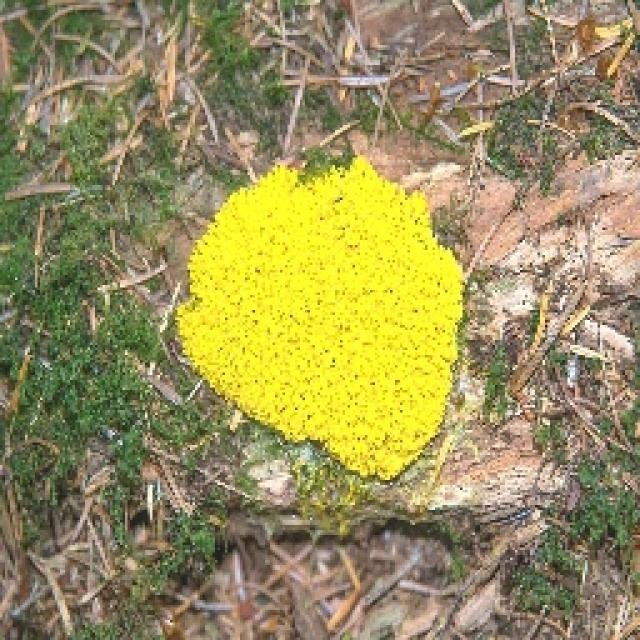Dog_vomit_slime_mold: (140, 134, 460, 496)
